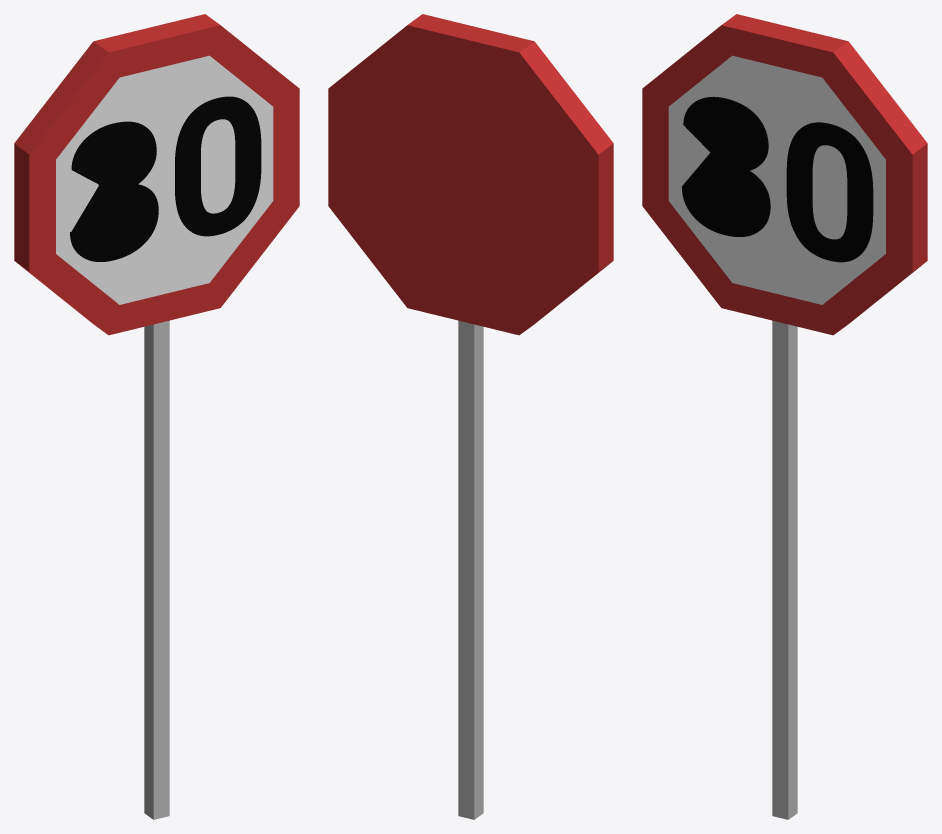
Rendered from 30_speed_sign.fbx.
The picture shows the model from 3 angles, left to right: view 1: azimuth 30°, elevation 25°; view 2: azimuth 150°, elevation 25°; view 3: azimuth 330°, elevation 25°; orthographic projection.
Visible parts, largest first — view 1: 30_speed_sign; view 2: 30_speed_sign; view 3: 30_speed_sign.
Part boxes in pixels (box(x1,y1,x2,y2)): 30_speed_sign: box(14, 14, 299, 819); 30_speed_sign: box(328, 14, 613, 819); 30_speed_sign: box(642, 14, 927, 819).
Size of the model in its own units: 1.19 by 3.29 by 0.1231.
Materials: 2 (1 with a texture image).
